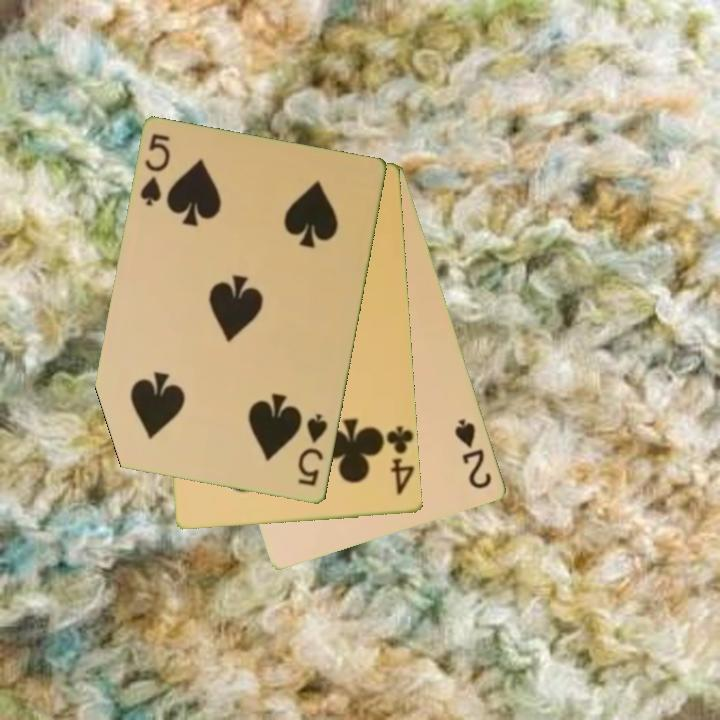2s: (451, 415, 496, 492)
4c: (383, 422, 417, 499)
5s: (137, 130, 174, 210), (294, 411, 331, 490)
